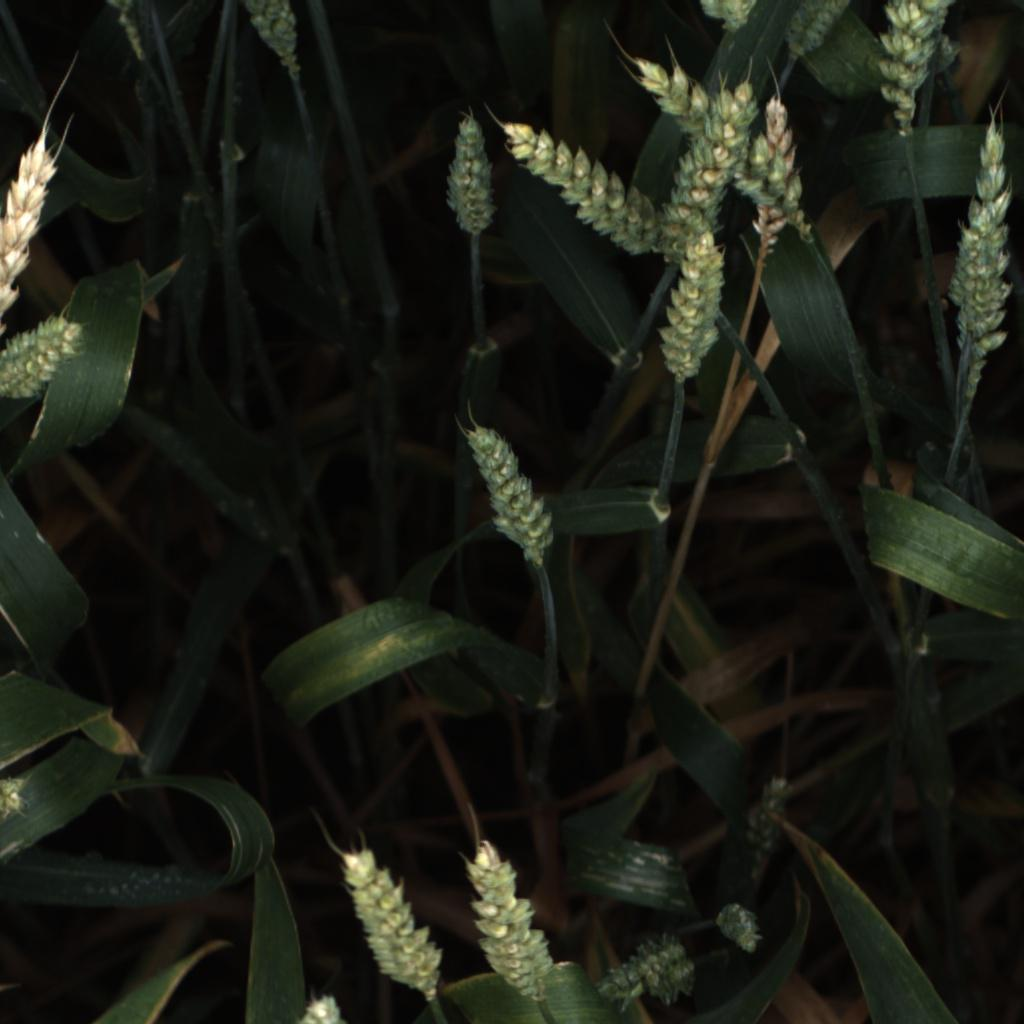0-0: (502, 110, 654, 264), (938, 115, 1024, 374), (657, 74, 765, 248), (339, 838, 443, 1001), (467, 829, 552, 1011), (455, 419, 560, 564), (1, 97, 59, 359), (654, 223, 730, 393), (875, 0, 953, 144), (621, 40, 720, 147), (590, 924, 699, 1014), (747, 98, 810, 253), (438, 111, 509, 246), (0, 310, 93, 405), (733, 764, 799, 864), (241, 0, 308, 81), (776, 3, 858, 68), (714, 900, 766, 959), (695, 0, 759, 36), (286, 987, 350, 1023), (933, 31, 965, 75), (105, 0, 140, 28)
